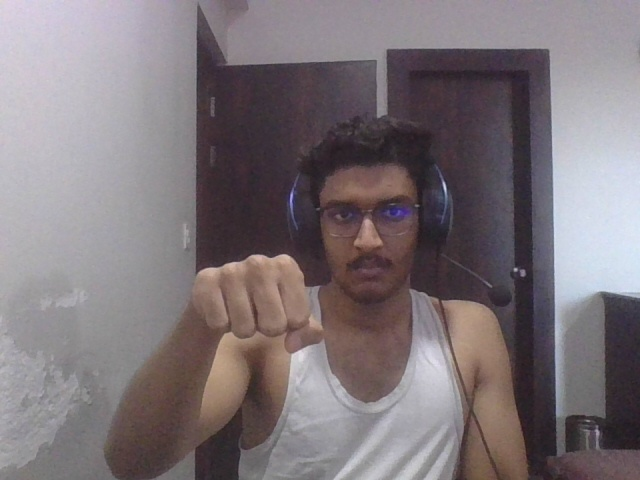Yes: (179, 246, 335, 361)
